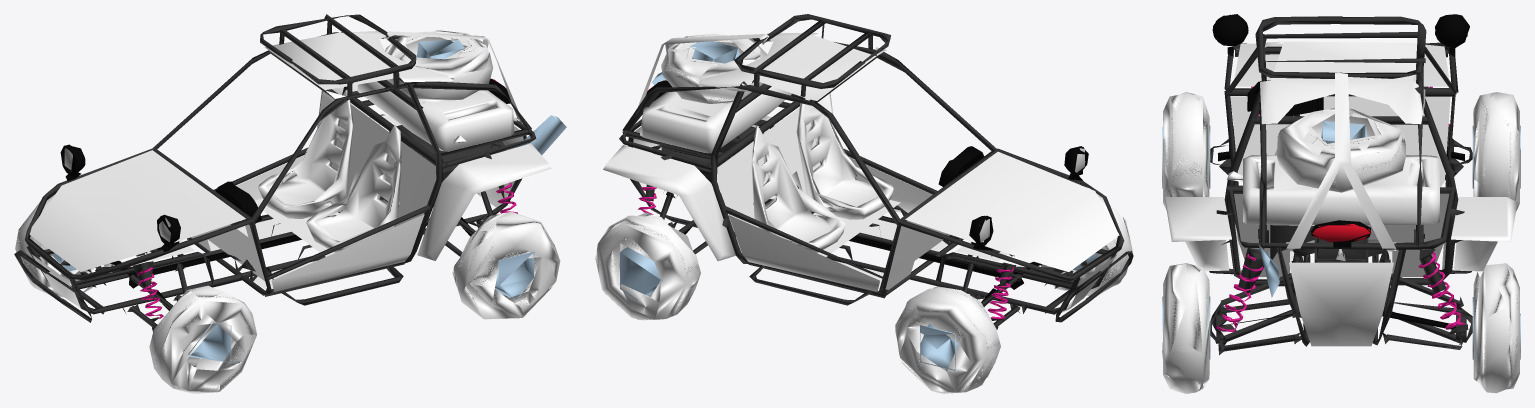
The model's file is car_buggy_far.glb.
3 renders of one model, left to right at view 1: azimuth 30°, elevation 25°; view 2: azimuth 150°, elevation 25°; view 3: azimuth 270°, elevation 25°, orthographic. The views are drawn at different scales.
Visible parts, largest first — view 1: car_buggy; view 2: car_buggy; view 3: car_buggy.
Part boxes in pixels (<box>): car_buggy: <box>14,14,566,393</box>; car_buggy: <box>595,14,1133,393</box>; car_buggy: <box>1162,14,1520,393</box>.
Bounding box in the file's own units: 3.96 × 1.91 × 2.17.
